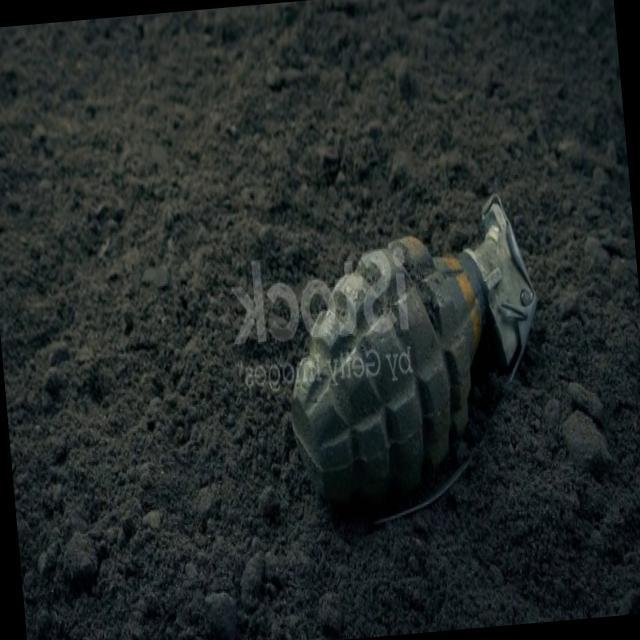grenade: (266, 194, 558, 540)
